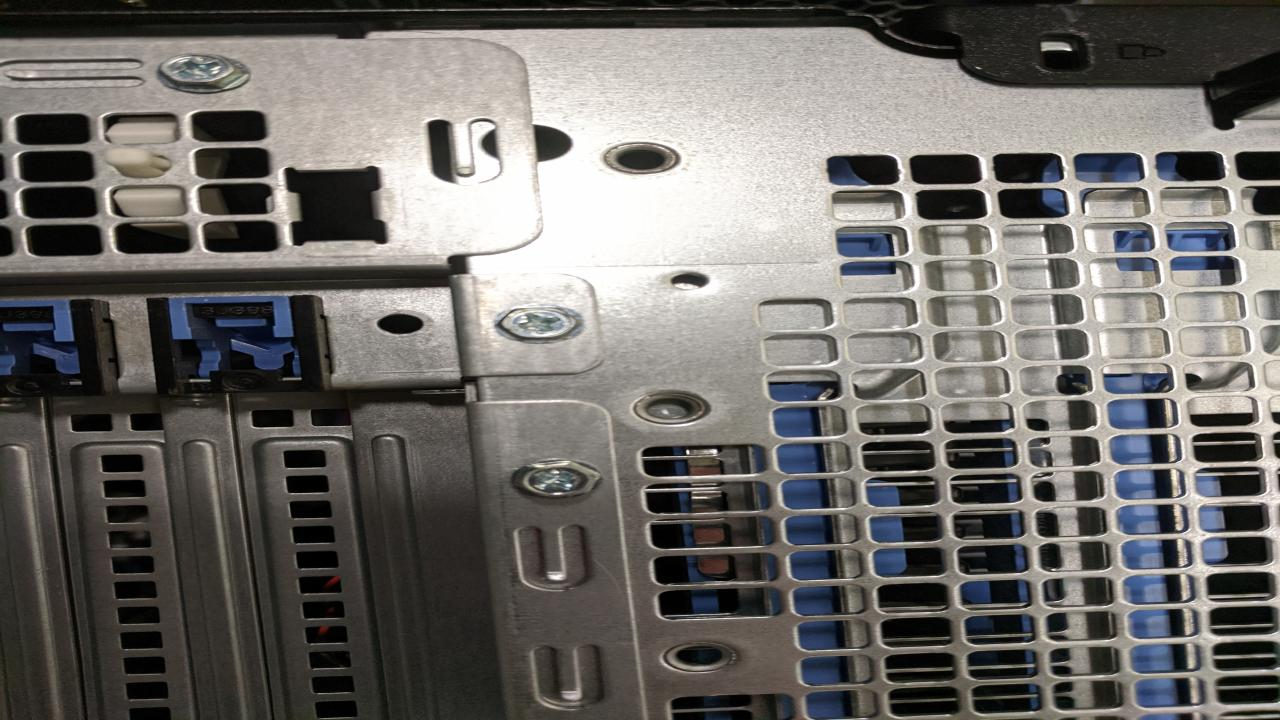CRS: (153, 54, 260, 91), (492, 304, 588, 340), (517, 460, 599, 499)
